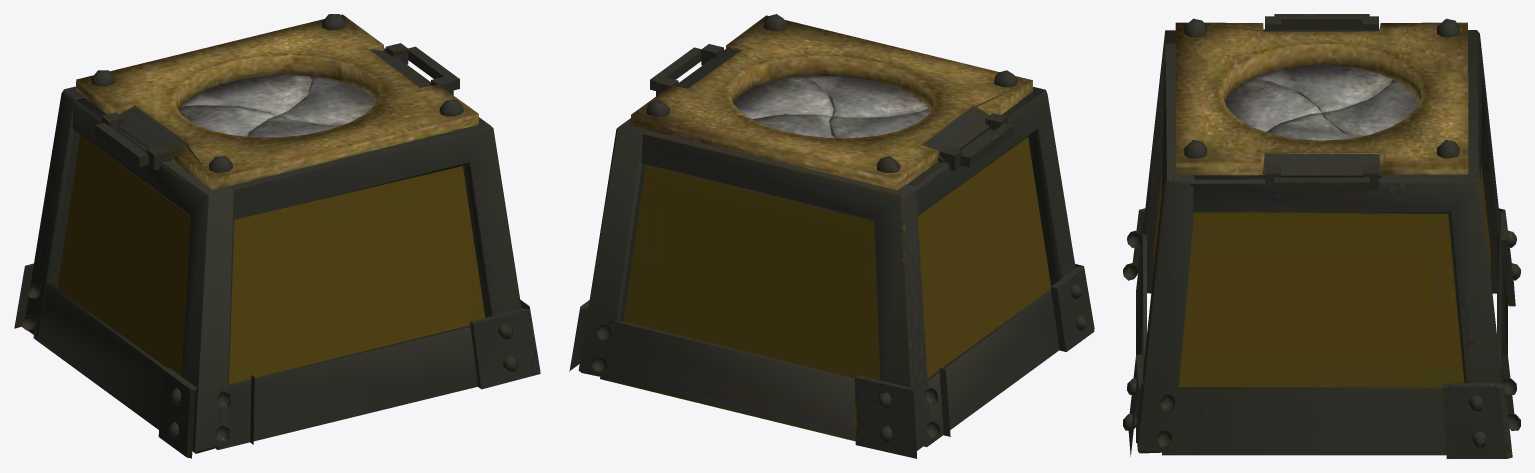
Rendered from storage-chest.glb.
3 views of the same model, side by side, from view 1: azimuth 30°, elevation 25°; view 2: azimuth 150°, elevation 25°; view 3: azimuth 270°, elevation 25° (orthographic). The views are drawn at different scales.
Parts seen in each view (by area): view 1: body; view 2: body; view 3: body.
Boxes of the visible parts, box(x1,y1,x2,y2) form: body: box(14, 14, 540, 458); body: box(569, 14, 1094, 458); body: box(1123, 14, 1520, 458).
Size of the model in its own units: 1.02 by 0.7135 by 0.9.
1 material, 1 textured.
